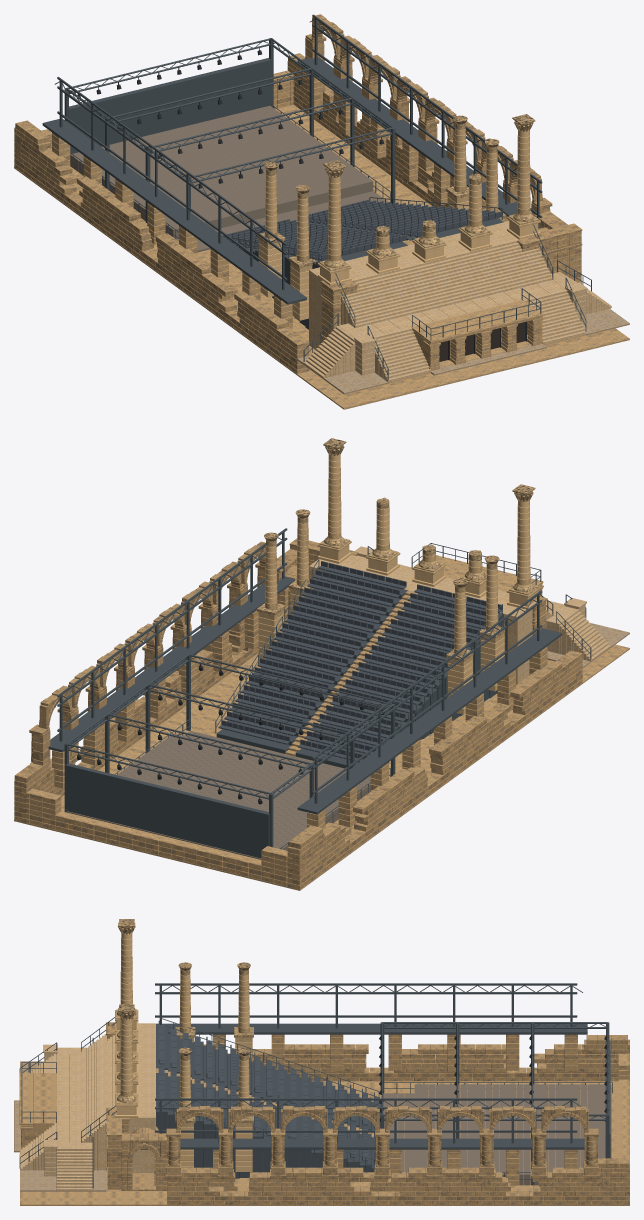
Rendered from opera-D8EqSN49.glb.
3 views of the same model, one above another, from view 1: azimuth 30°, elevation 25°; view 2: azimuth 150°, elevation 25°; view 3: azimuth 270°, elevation 25° (orthographic). The views are drawn at different scales.
Visible parts, largest first — view 1: 13 | Side galleries and longitudinal frames, 04 | Side ruin -1, 01 | Entrance landing, 07 | Stage deck, 03 | Portico column 1, 08 | Steel handrails, 06 | Raked auditorium and central aisle, 11b | Corner apron, 09 | Open lighting gantry, 15b | Recessed rectangular shop openings; view 2: 13 | Side galleries and longitudinal frames, 04 | Side ruin -1, 06 | Raked auditorium and central aisle, 03 | Portico column 1, 07 | Stage deck, 08 | Steel handrails, 01 | Entrance landing, 09 | Open lighting gantry, 11b | Corner apron; view 3: 04 | Side ruin -1, 13 | Side galleries and longitudinal frames, 01 | Entrance landing, 07 | Stage deck, 03 | Portico column 1, 06 | Raked auditorium and central aisle, 08 | Steel handrails, 11b | Corner apron, 09 | Open lighting gantry.
Part boxes in pixels (x1,y1,x2,y2): 13 | Side galleries and longitudinal frames: [14, 14, 629, 409]; 04 | Side ruin -1: [14, 14, 582, 373]; 01 | Entrance landing: [303, 221, 611, 383]; 07 | Stage deck: [70, 105, 387, 252]; 03 | Portico column 1: [256, 114, 540, 320]; 08 | Steel handrails: [64, 38, 586, 379]; 06 | Raked auditorium and central aisle: [222, 199, 502, 260]; 11b | Corner apron: [297, 308, 629, 394]; 09 | Open lighting gantry: [76, 48, 384, 188]; 15b | Recessed rectangular shop openings: [439, 321, 526, 361]; 13 | Side galleries and longitudinal frames: [14, 528, 629, 890]; 04 | Side ruin -1: [14, 538, 582, 889]; 06 | Raked auditorium and central aisle: [218, 561, 502, 762]; 03 | Portico column 1: [256, 438, 540, 714]; 07 | Stage deck: [66, 731, 370, 859]; 08 | Steel handrails: [64, 546, 586, 850]; 01 | Entrance landing: [309, 546, 610, 684]; 09 | Open lighting gantry: [77, 664, 383, 804]; 11b | Corner apron: [547, 622, 629, 667]; 04 | Side ruin -1: [106, 1022, 629, 1204]; 13 | Side galleries and longitudinal frames: [19, 983, 629, 1205]; 01 | Entrance landing: [19, 1023, 155, 1190]; 07 | Stage deck: [383, 1084, 611, 1185]; 03 | Portico column 1: [115, 919, 253, 1171]; 06 | Raked auditorium and central aisle: [158, 1020, 379, 1163]; 08 | Steel handrails: [19, 1017, 612, 1185]; 11b | Corner apron: [14, 1061, 106, 1191]; 09 | Open lighting gantry: [379, 1035, 608, 1121].
Bounding box in the file's own units: 26.4 × 16.79 × 52.51.
18 materials, 13 textured.
